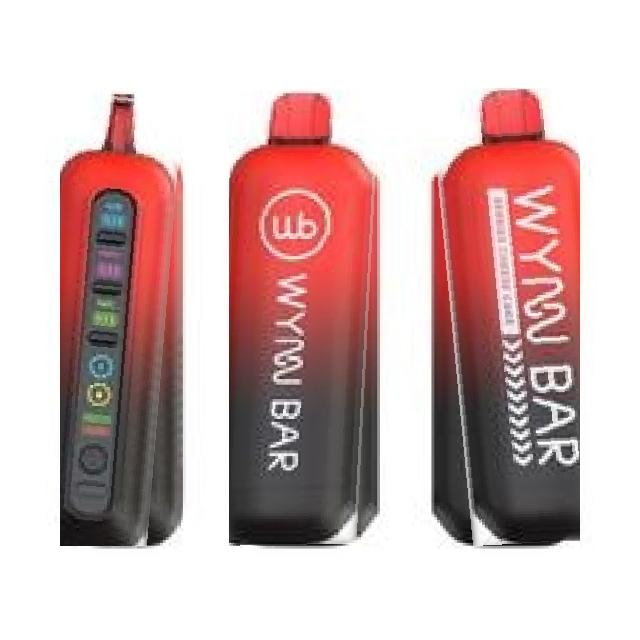Vapes: (429, 88, 580, 546), (229, 91, 380, 546), (60, 91, 183, 546)
